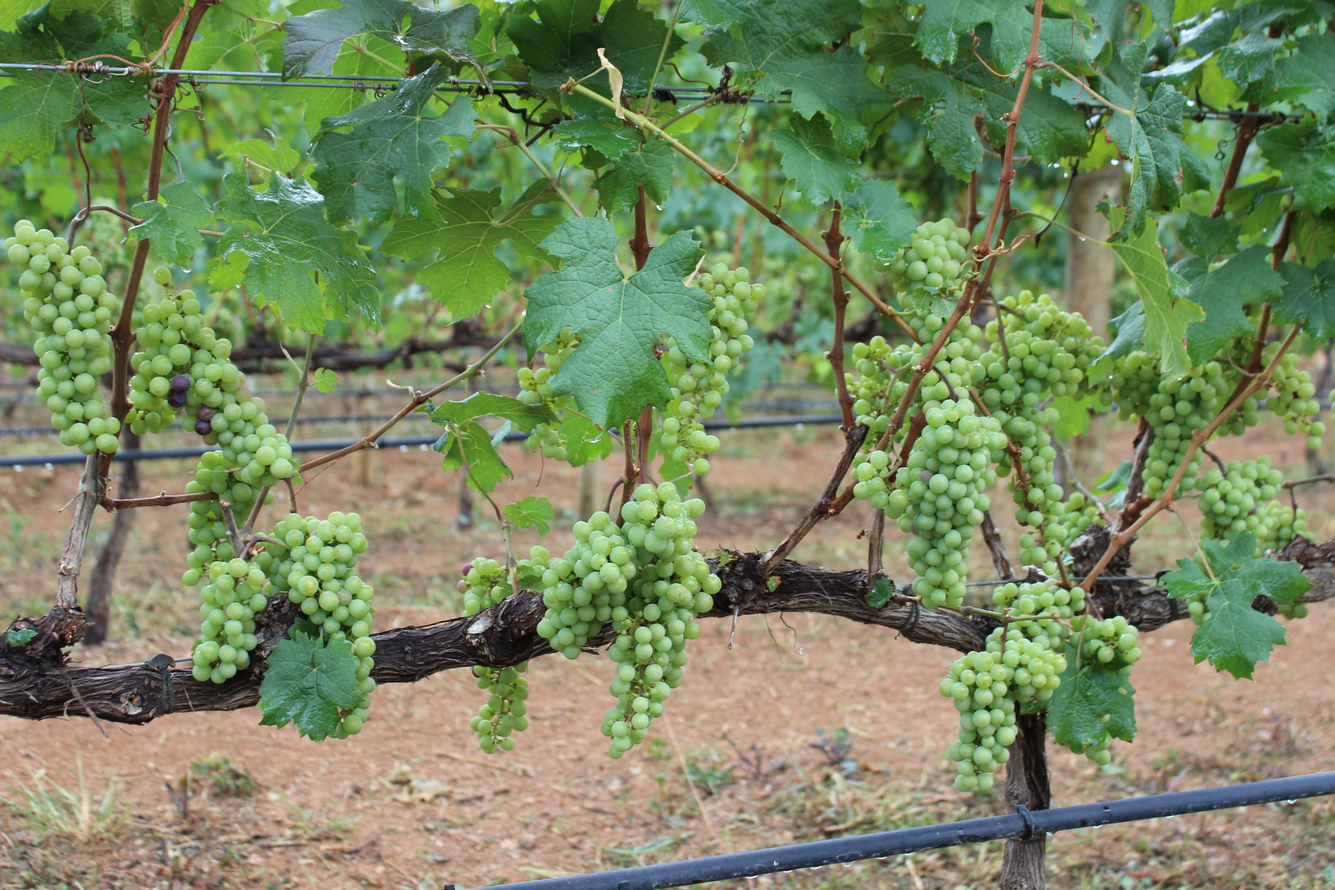leaf: (524, 217, 712, 429), (702, 0, 892, 149), (209, 173, 380, 334), (312, 64, 476, 226), (382, 187, 562, 318), (1161, 532, 1312, 678), (1103, 73, 1199, 240), (282, 0, 478, 78), (1108, 218, 1204, 375), (506, 0, 667, 90), (1191, 559, 1311, 678), (0, 70, 151, 161), (1187, 244, 1285, 363), (258, 631, 360, 740), (891, 65, 985, 180), (1047, 644, 1136, 745), (916, 0, 1033, 73), (770, 115, 858, 205), (0, 5, 133, 64), (1257, 117, 1335, 211), (0, 71, 79, 162), (130, 182, 213, 266), (843, 179, 917, 262), (594, 139, 677, 213), (433, 421, 512, 494), (1016, 84, 1088, 164), (1274, 30, 1335, 115), (430, 392, 557, 432), (854, 2, 923, 74), (1273, 260, 1335, 340), (272, 81, 367, 133), (966, 66, 1018, 145), (1213, 30, 1283, 87), (551, 116, 639, 161), (221, 134, 303, 178), (80, 77, 153, 124), (558, 413, 616, 466), (1177, 9, 1238, 58), (1179, 212, 1238, 261), (1100, 301, 1145, 363), (1084, 0, 1131, 57), (1201, 531, 1256, 576), (1039, 19, 1086, 71), (1050, 395, 1101, 442), (1158, 558, 1215, 598), (332, 45, 400, 77), (504, 495, 554, 535), (1092, 459, 1134, 506), (679, 0, 745, 27), (666, 34, 682, 58), (589, 74, 607, 88), (1110, 208, 1121, 225), (1249, 538, 1254, 555), (1115, 66, 1120, 69), (1229, 29, 1231, 35), (1225, 37, 1227, 41), (1122, 69, 1124, 72), (1127, 213, 1129, 216), (993, 44, 995, 47), (1207, 177, 1208, 182), (326, 90, 330, 91), (231, 44, 234, 45), (154, 99, 155, 101), (177, 7, 178, 9), (1179, 279, 1180, 280)
